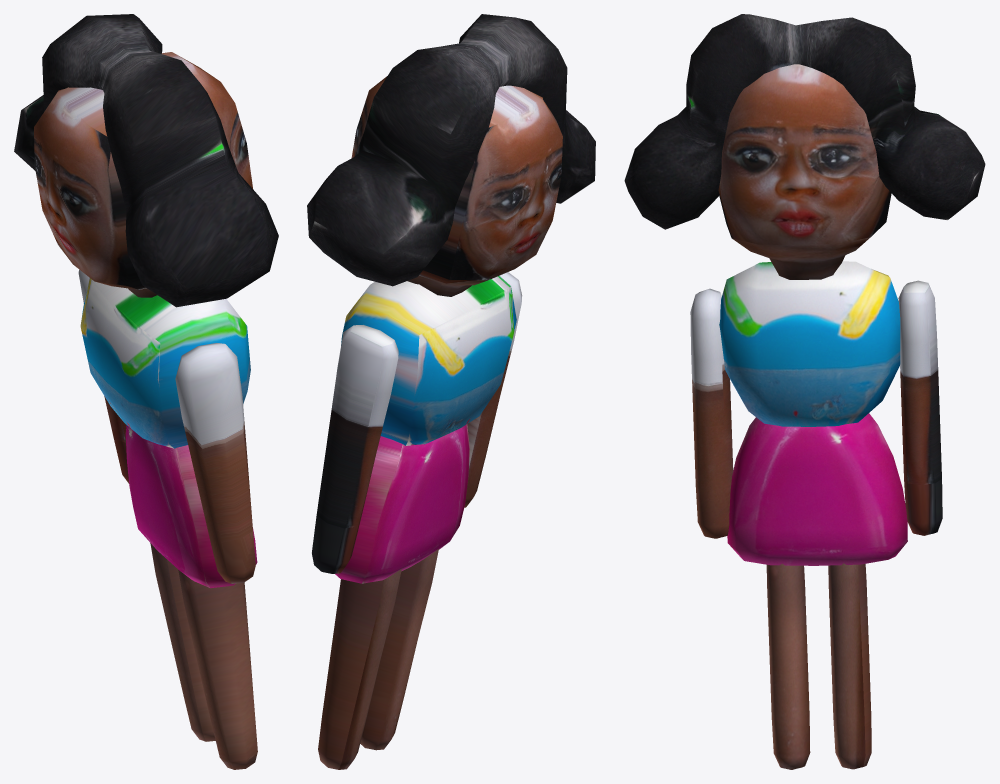
Rendered from SM_BigDoll.fbx.
The picture shows the model from 3 angles, left to right: view 1: azimuth 30°, elevation 25°; view 2: azimuth 150°, elevation 25°; view 3: azimuth 270°, elevation 25°; orthographic projection. The views are drawn at different scales.
Parts seen in each view (by area): view 1: SM_BigDoll; view 2: SM_BigDoll; view 3: SM_BigDoll.
Part boxes in pixels (x1,y1,x2,y2): SM_BigDoll: (14, 14, 278, 769); SM_BigDoll: (307, 14, 595, 769); SM_BigDoll: (624, 14, 985, 769).
Size of the model in its own units: 79.28 by 280 by 130.
